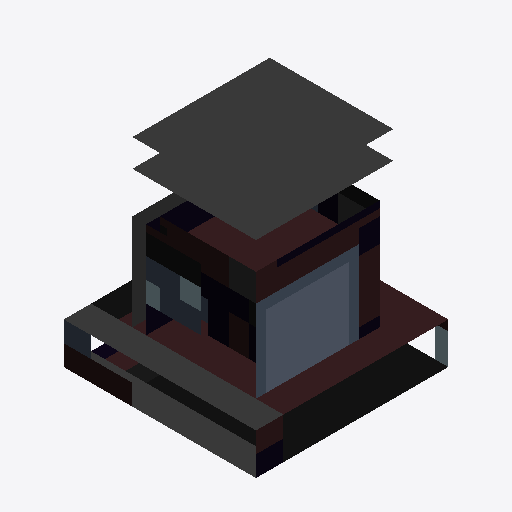
Isometric view (azimuth 45°, elevation 35.3°) of a Minecraft model made of 21 cuboids, textured from the same repository.
Parts seen in each view (by area): element 1, element 9, element 8, element 12, element 2, element 7, element 11.
Part boxes in pixels (x1,y1,x2,y2): element 1: (64, 280, 447, 477); element 9: (133, 58, 392, 239); element 8: (256, 201, 379, 397); element 12: (146, 217, 255, 362); element 2: (188, 209, 337, 271); element 7: (132, 193, 214, 334); element 11: (311, 185, 379, 223).
Bounding box in the file's own units: 14 × 16 × 14.